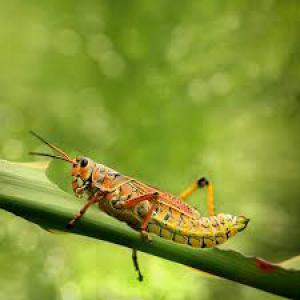locust: (37, 128, 266, 258)
